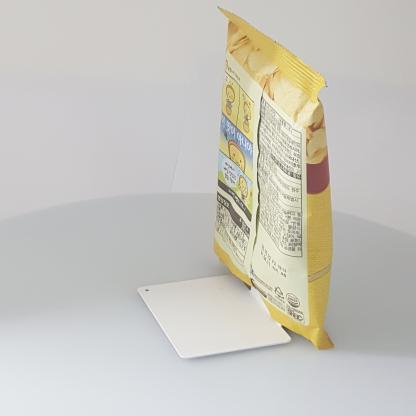Plastic Packaging: (204, 3, 350, 358)
